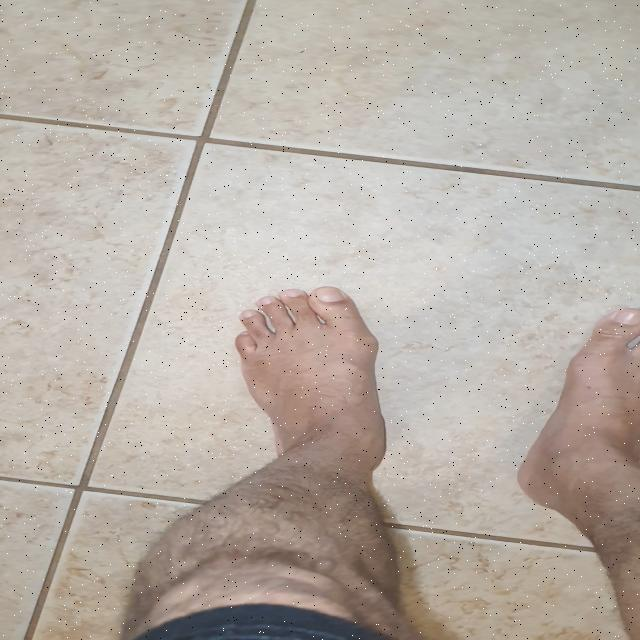no-boots: (214, 284, 404, 480), (520, 296, 640, 510)
